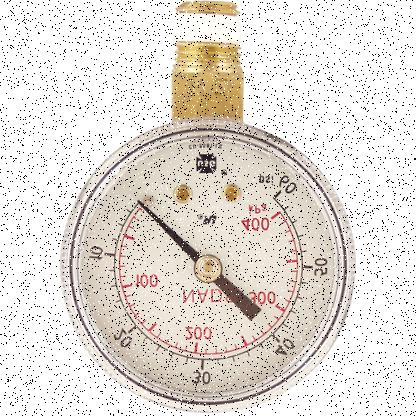needle: (136, 198, 202, 265)
